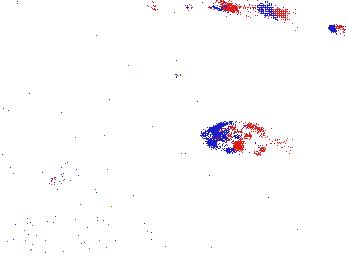X-ray fish: (199, 119, 285, 158)
red belly glassfish: (47, 165, 83, 186), (205, 188, 235, 203), (328, 21, 346, 39), (323, 73, 334, 94)
redtail glassfish: (209, 1, 289, 24)
